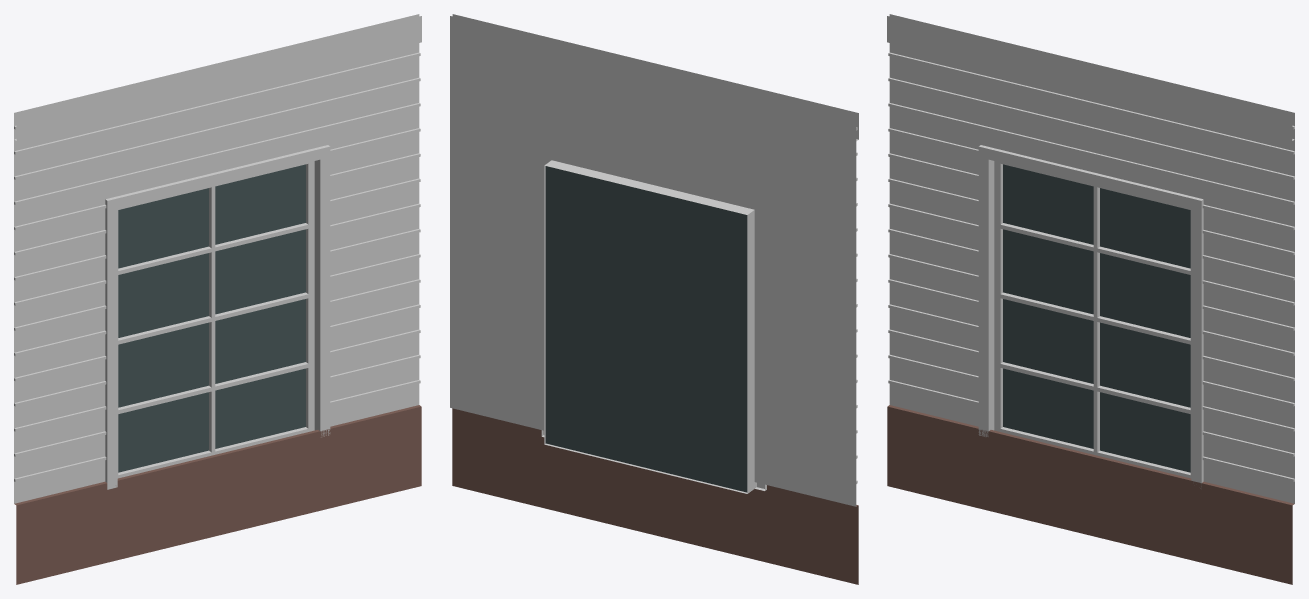
File: base-w3_close.fbx
3 renders of one model, left to right at view 1: azimuth 30°, elevation 25°; view 2: azimuth 150°, elevation 25°; view 3: azimuth 330°, elevation 25°, orthographic.
Visible parts, largest first — view 1: a2000/600/base-w3_close; view 2: a2000/600/base-w3_close; view 3: a2000/600/base-w3_close.
Part boxes in pixels (box(x1,y1,x2,y2)): a2000/600/base-w3_close: box(14, 14, 421, 584); a2000/600/base-w3_close: box(450, 14, 858, 584); a2000/600/base-w3_close: box(887, 14, 1294, 584).
Bounding box in the file's own units: 3.2 × 3.55 × 0.135.
